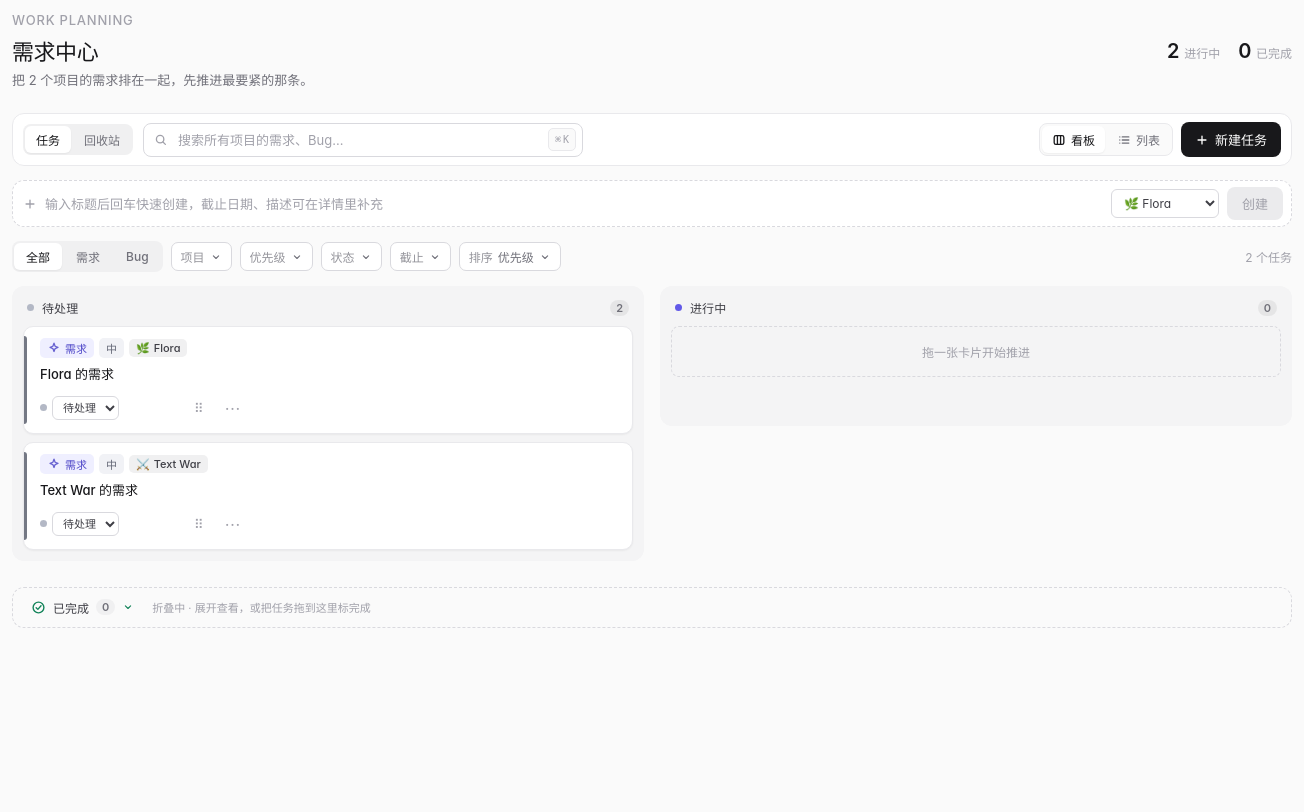
Test case: WorkCenter › narrows results down to a single project
Click the button "项目": [201, 256] box [171, 242, 232, 271]
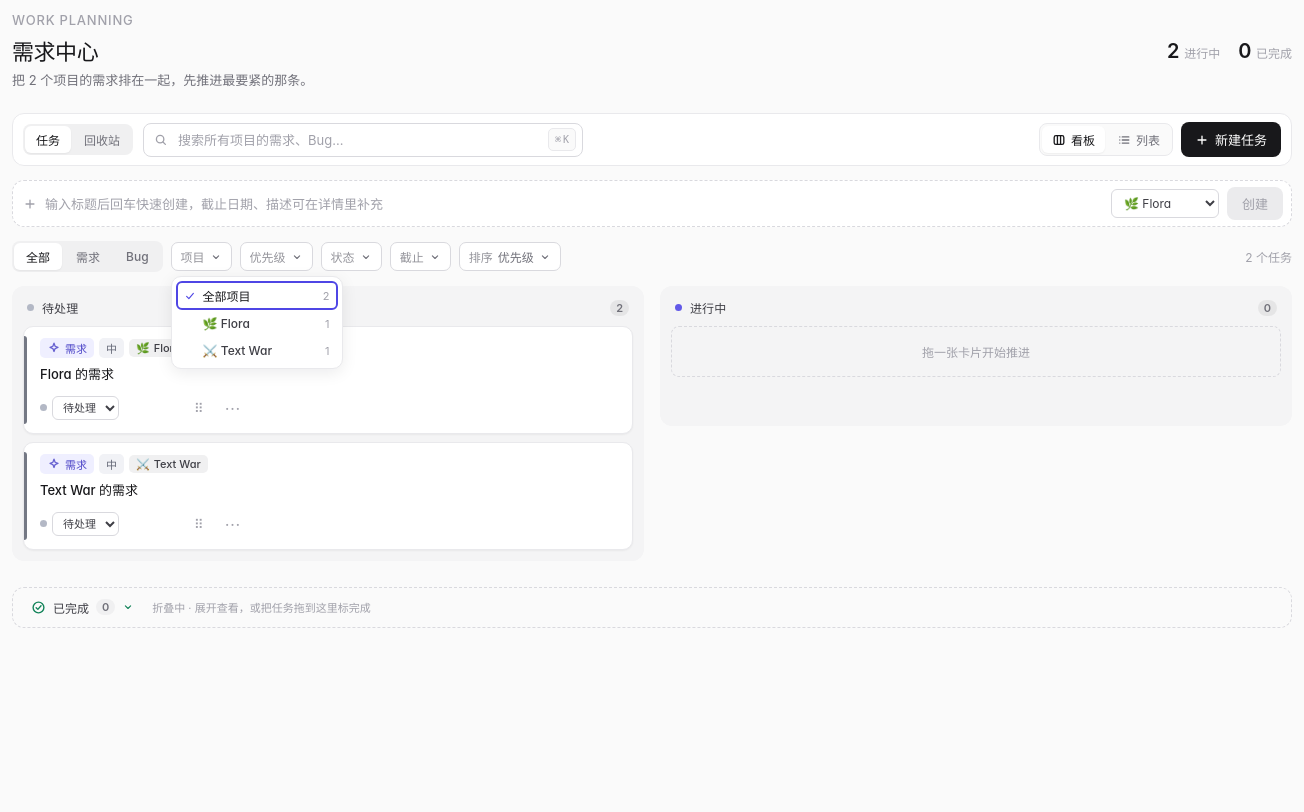
Click the option "⚔️ Text War 1": [266, 350] box [203, 343, 330, 358]
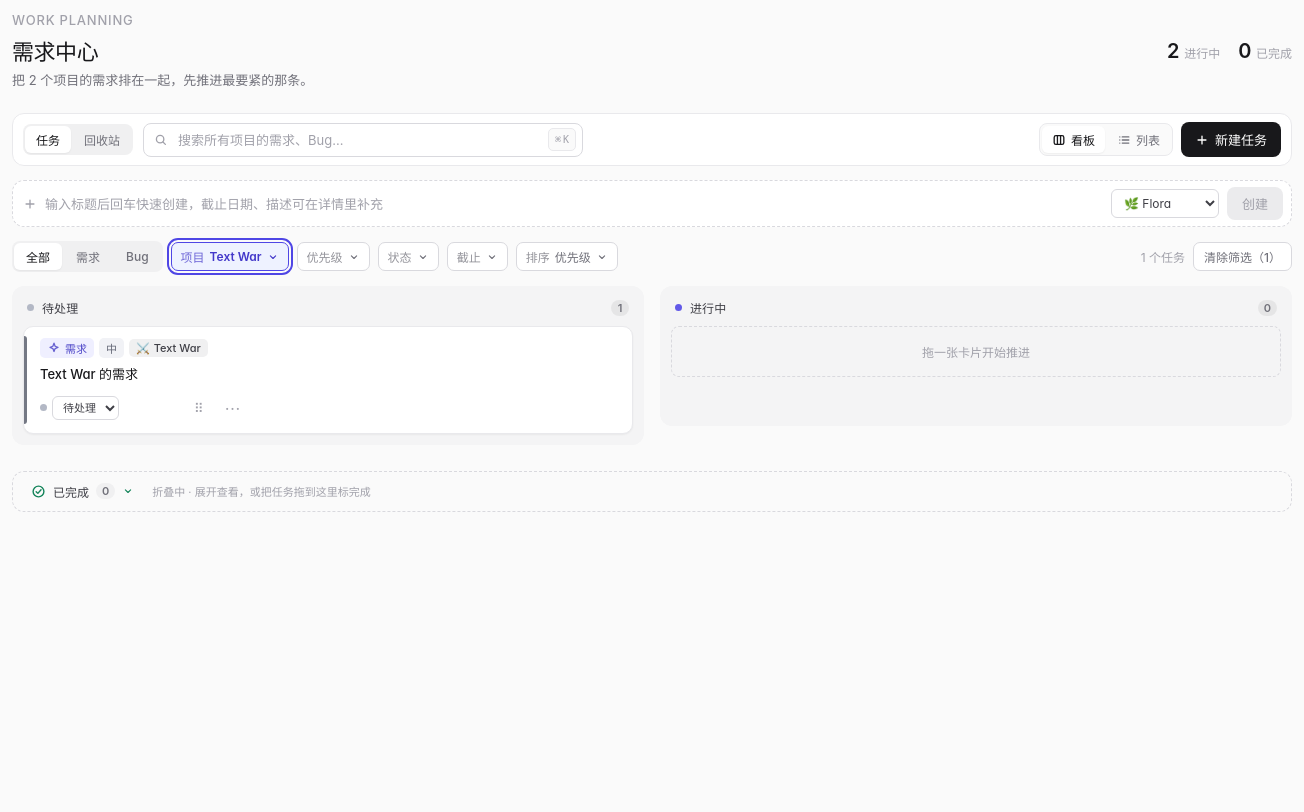
Check: the button "Text War 的需求" is shown, box [40, 365, 619, 384]
Check: the button "Flora 的需求" is gone
